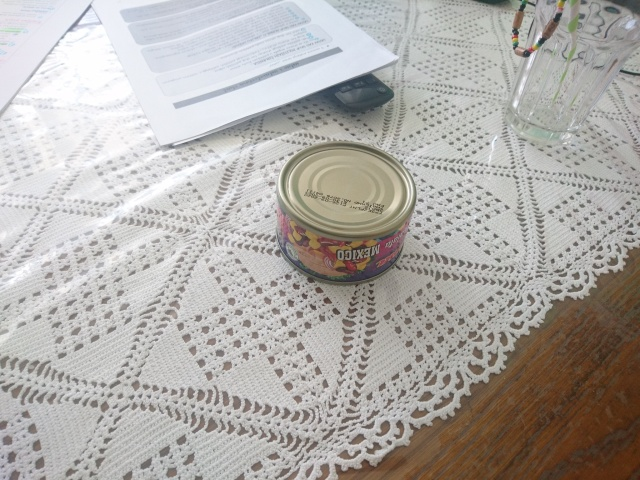Giana Tuna Salad Mexico 185g: (271, 139, 419, 288)
